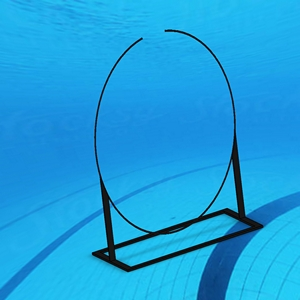circle: (90, 26, 268, 274)
